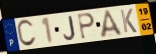1: (41, 16, 54, 46)
A: (100, 8, 124, 39)
C: (16, 18, 38, 48)
J: (63, 15, 77, 41)
K: (120, 8, 139, 34)
P: (76, 12, 96, 40)
